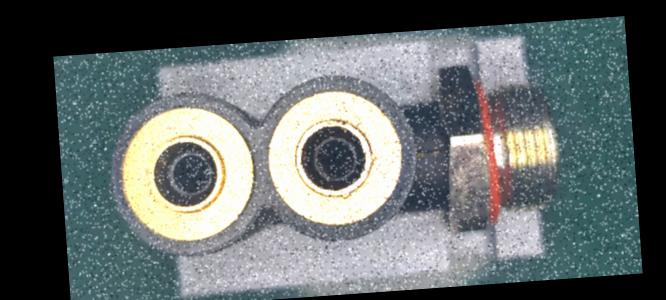craze: (415, 144, 449, 158)
